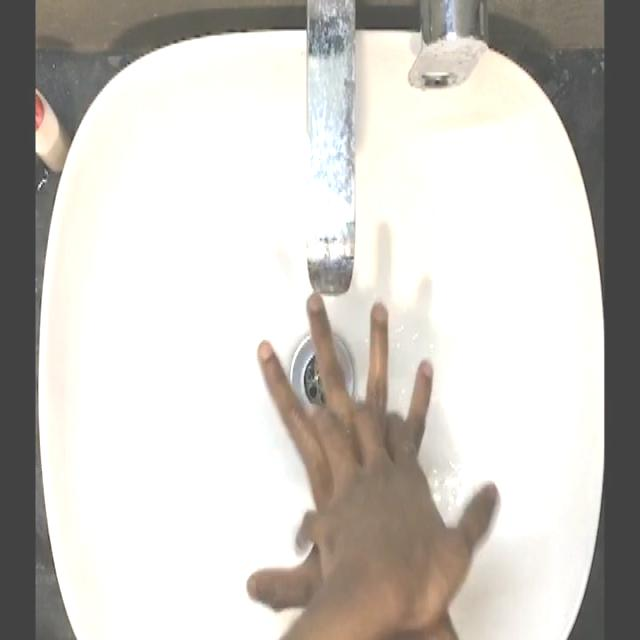step_2: (236, 288, 505, 615)
